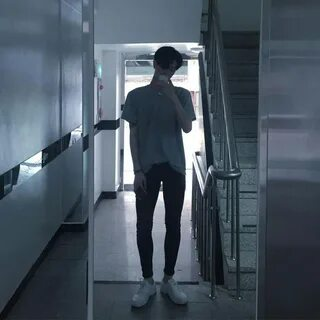awake: (124, 46, 195, 309)
